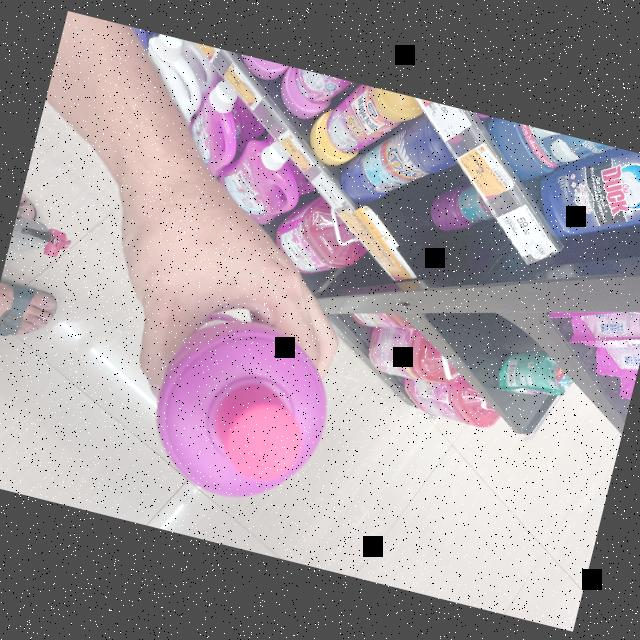chemical_plastic_bottle: (134, 295, 354, 521)
